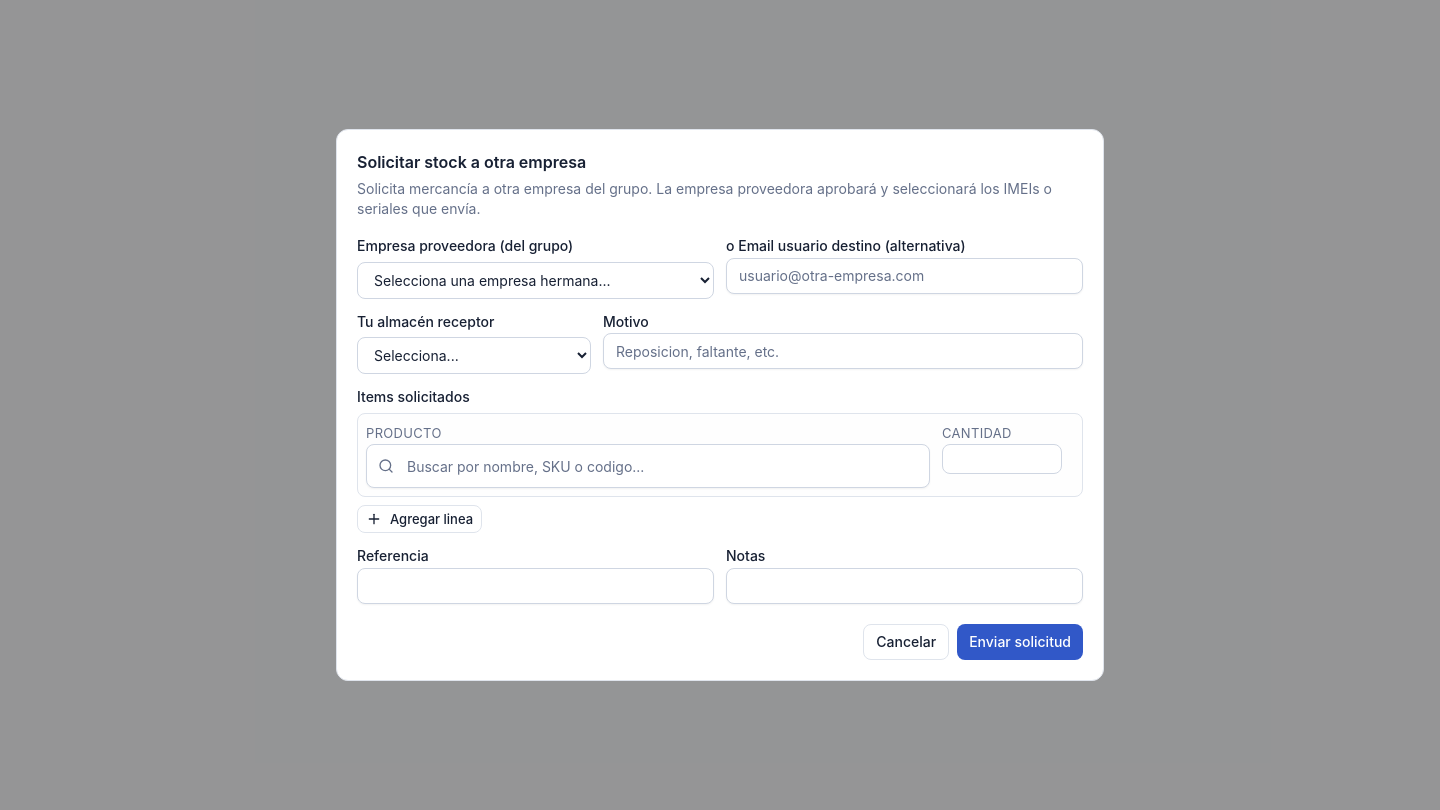
CreateInventoryTransferRequestDialog › busca productos de forma remota por nombre, SKU o codigo
Type "IPHONE 20" into the field with test id "item-product-0" at (648, 466), box [366,444,930,488]
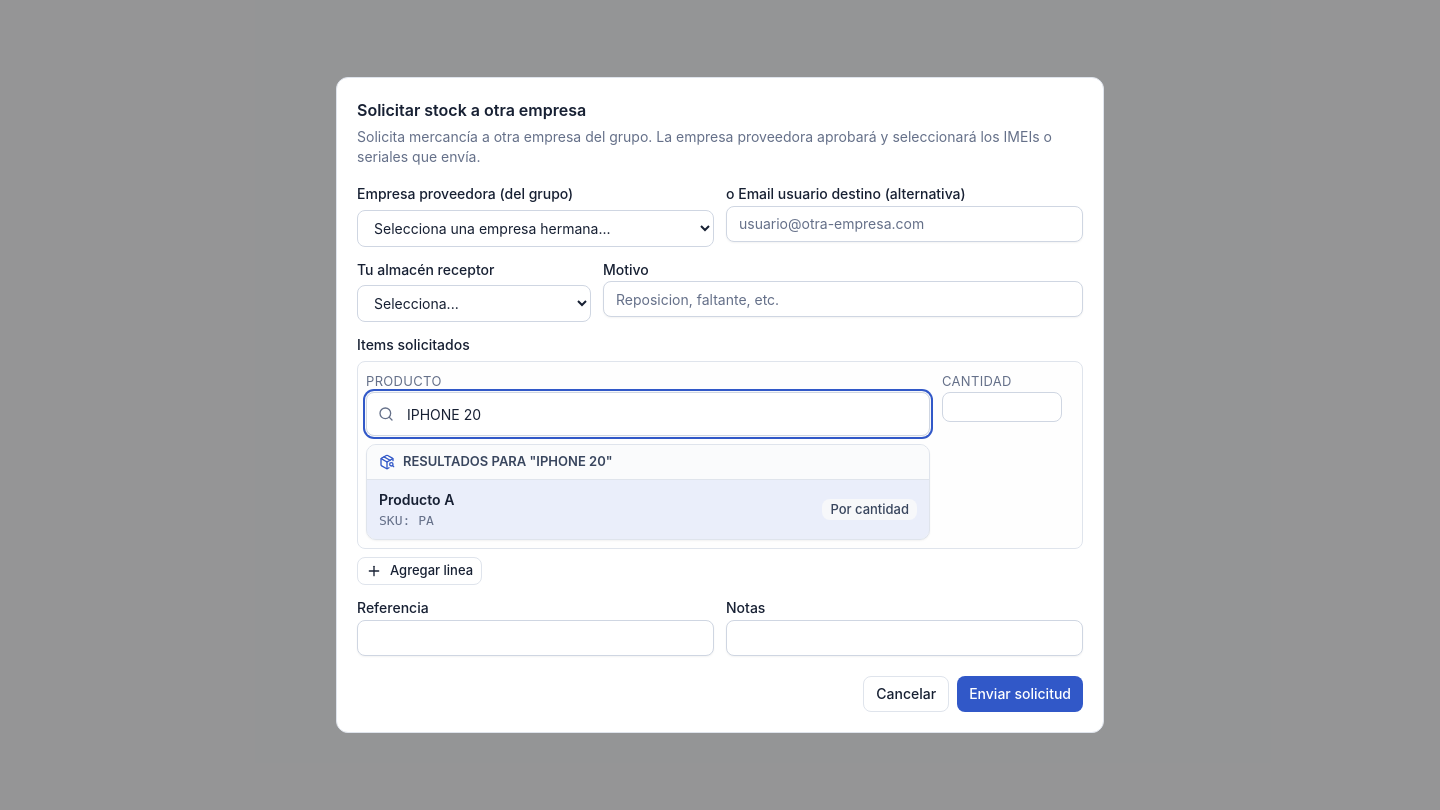
Check: the element with test id "item-product-results-0" is shown, box [366,444,930,540]
